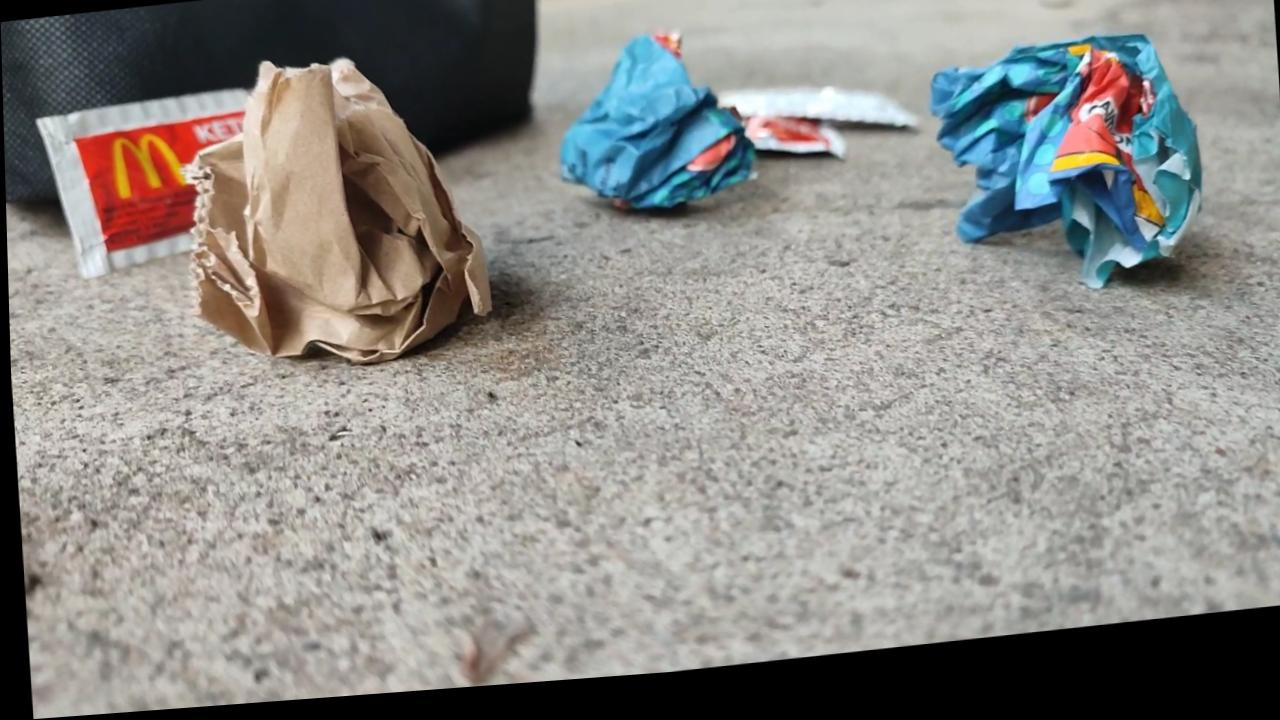paper: (172, 25, 504, 390), (923, 10, 1218, 310), (537, 9, 762, 253)
